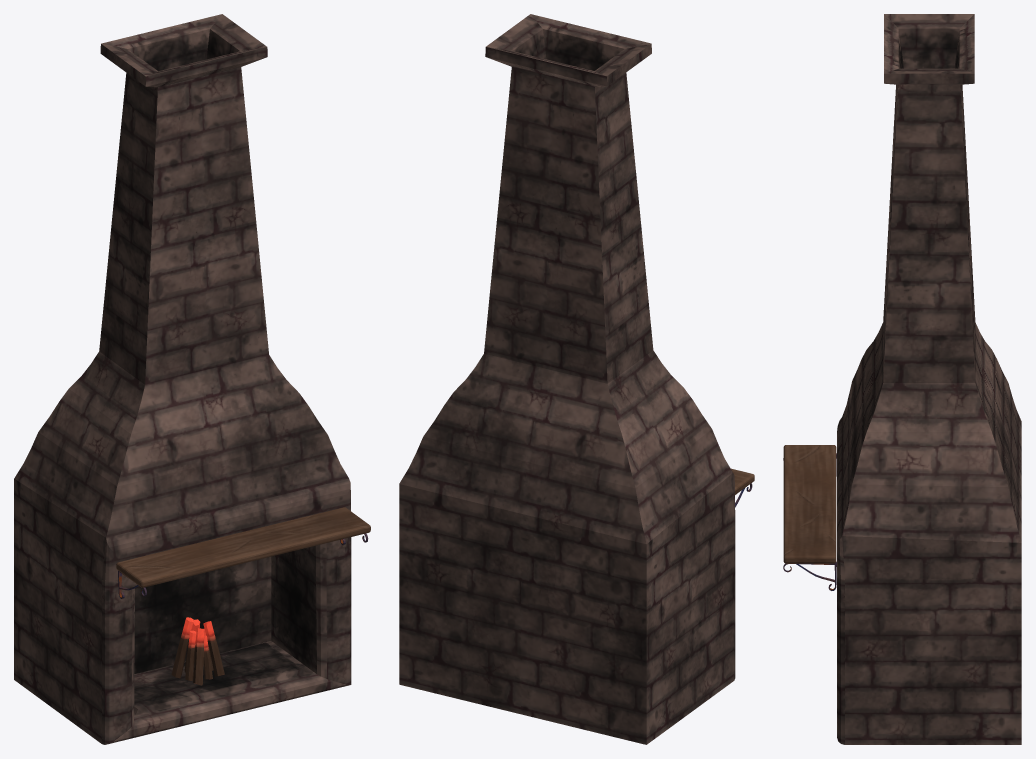
Rendered from Lareira.fbx.
3 renders of one model, left to right at view 1: azimuth 30°, elevation 25°; view 2: azimuth 150°, elevation 25°; view 3: azimuth 270°, elevation 25°, orthographic.
Visible parts, largest first — view 1: HearthBrick; view 2: HearthBrick; view 3: HearthBrick.
Part boxes in pixels (x1=…): HearthBrick: x1=14, y1=14, x2=370, y2=744; HearthBrick: x1=399, y1=14, x2=754, y2=744; HearthBrick: x1=783, y1=14, x2=1021, y2=744.
Size of the model in its own units: 185 by 455 by 153.
1 material, 1 textured.
